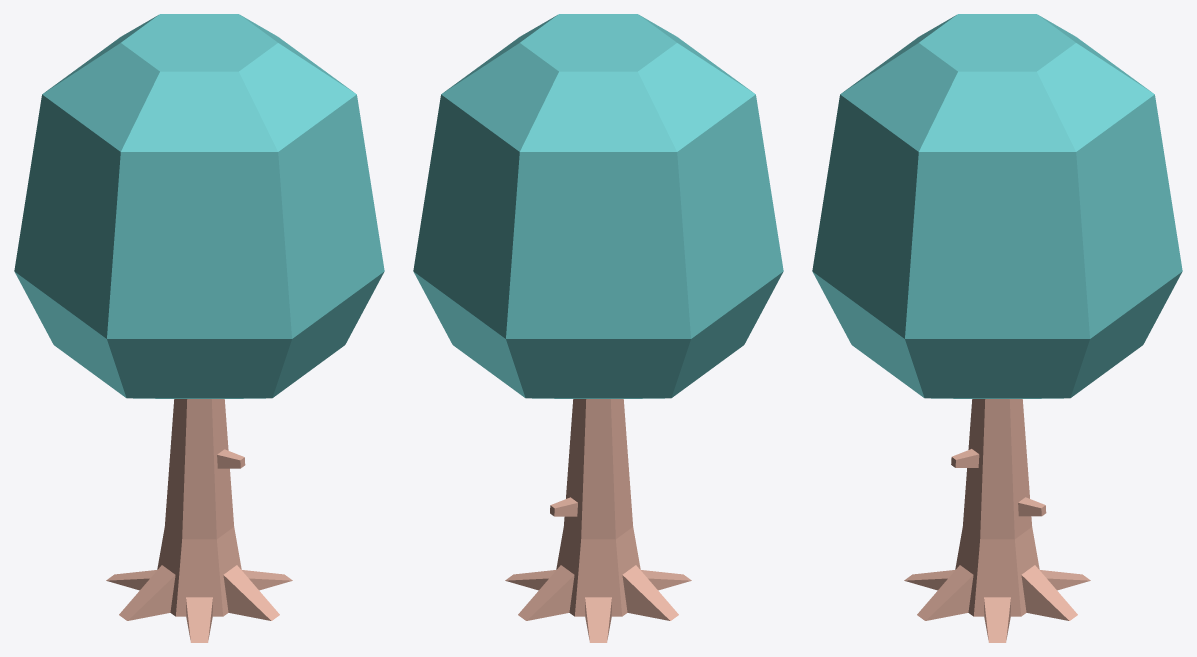
The model's file is tree_oak_dark.gltf.
3 views of the same model, side by side, from view 1: azimuth 30°, elevation 25°; view 2: azimuth 150°, elevation 25°; view 3: azimuth 270°, elevation 25° (orthographic).
Visible parts, largest first — view 1: tree_oak_dark; view 2: tree_oak_dark; view 3: tree_oak_dark.
Part boxes in pixels (box(x1,y1,x2,y2)): tree_oak_dark: box(14, 14, 384, 642); tree_oak_dark: box(413, 14, 783, 642); tree_oak_dark: box(812, 14, 1182, 642).
Bounding box in the file's own units: 0.6406 × 1.23 × 0.7396.
